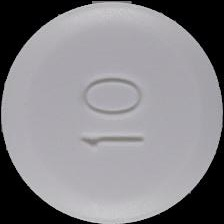55289-299: (0, 0, 224, 224)
